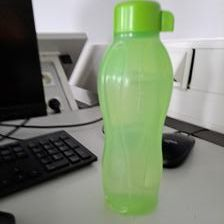bottle: (96, 1, 175, 218)
